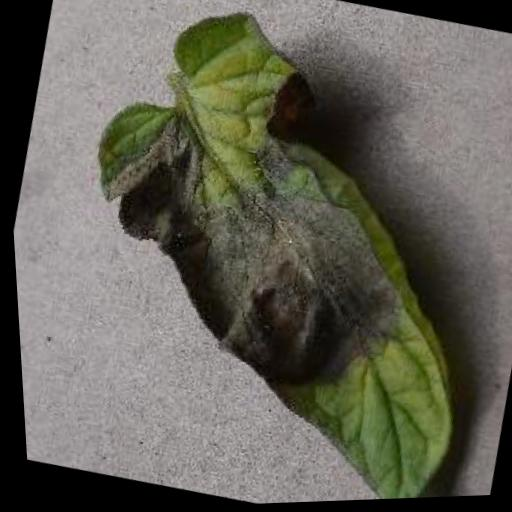Late Blight: (18, 0, 512, 511)
